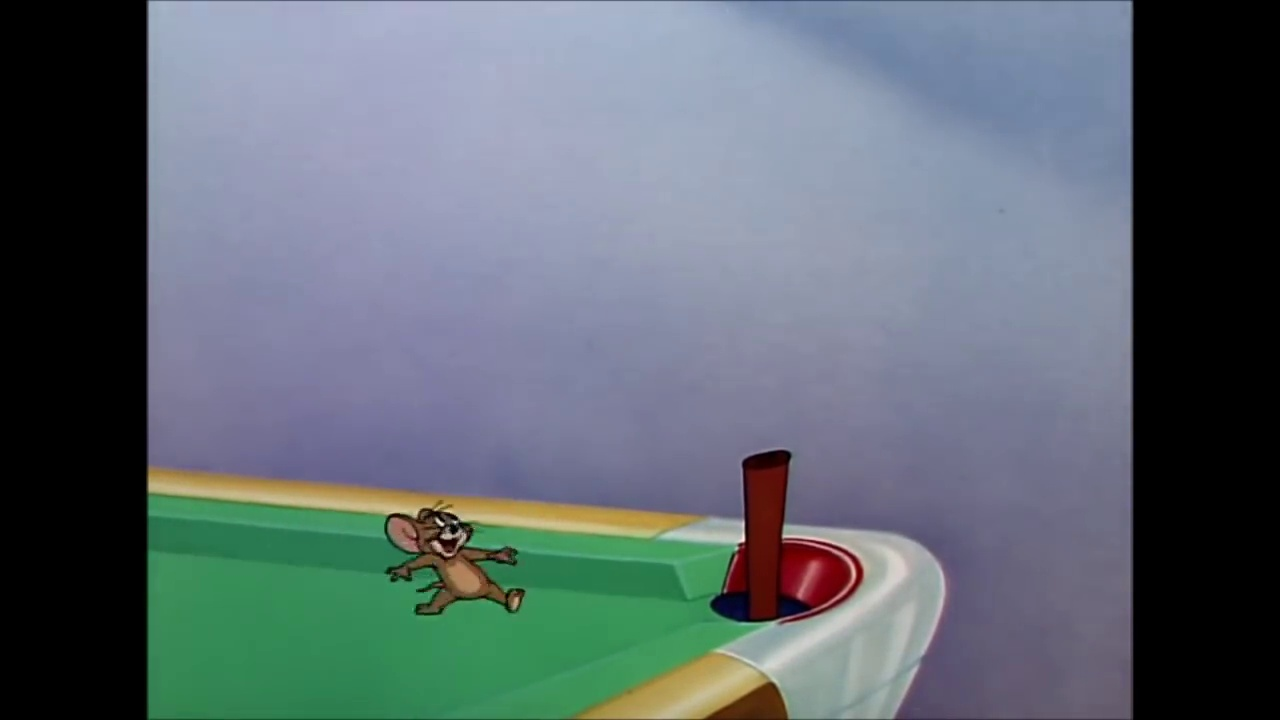happy: (429, 510, 463, 559)
